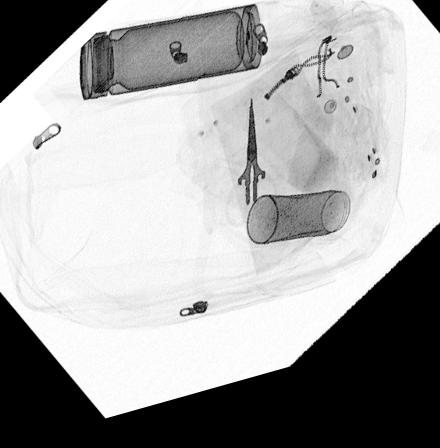Scissors: (223, 108, 280, 242)
